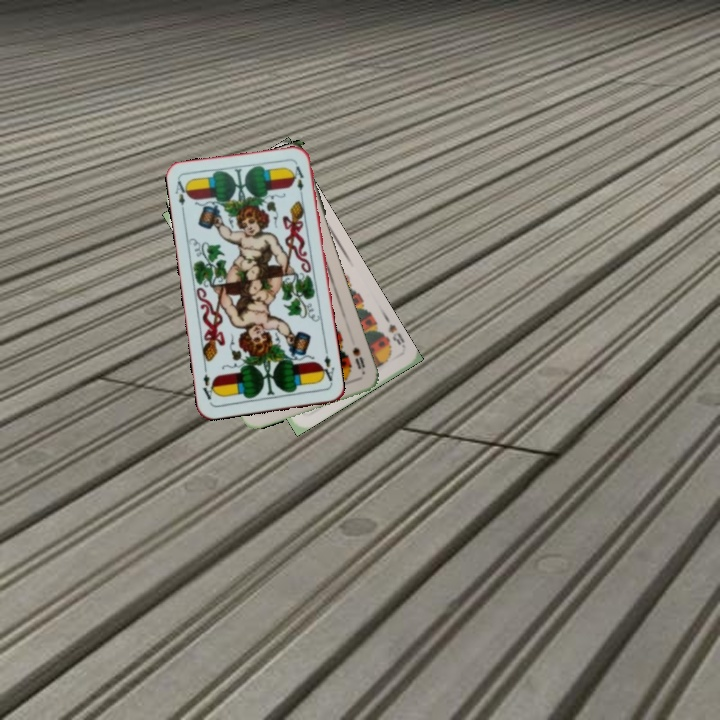EA: (316, 347, 337, 387), (171, 177, 192, 217)
S8: (384, 319, 409, 352), (348, 343, 368, 371)
